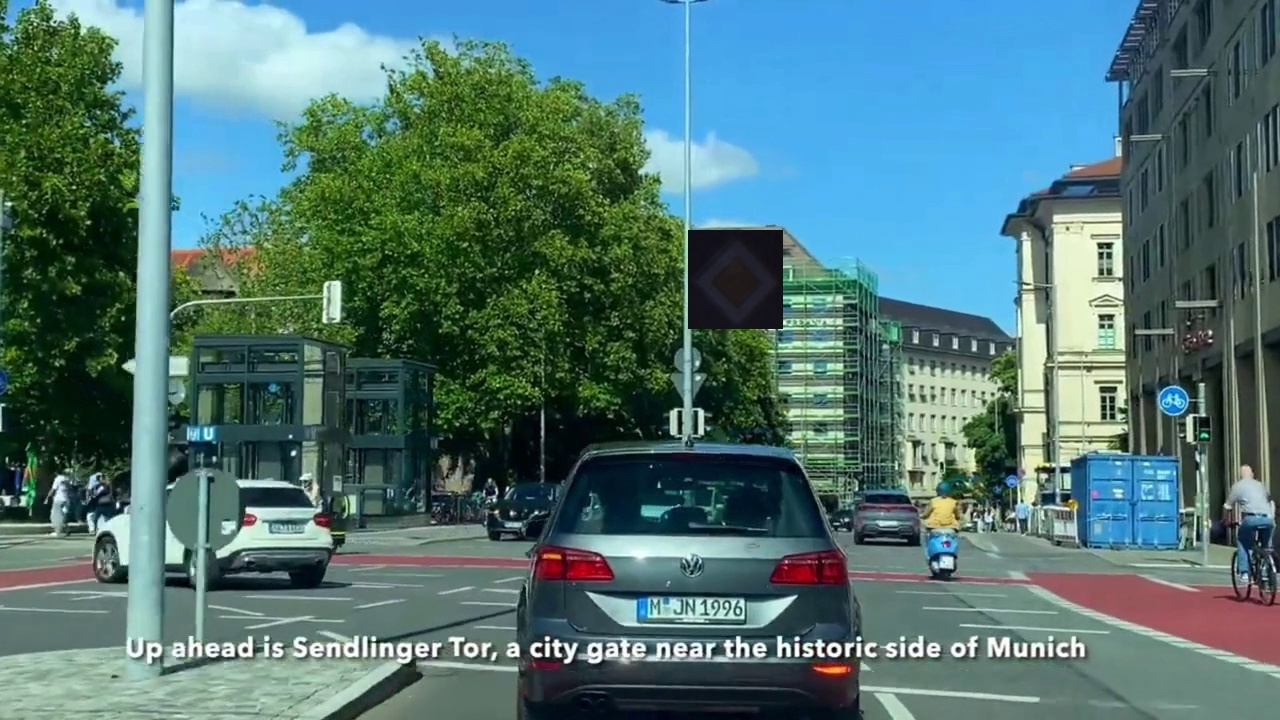Priority road: (688, 230, 783, 329)
